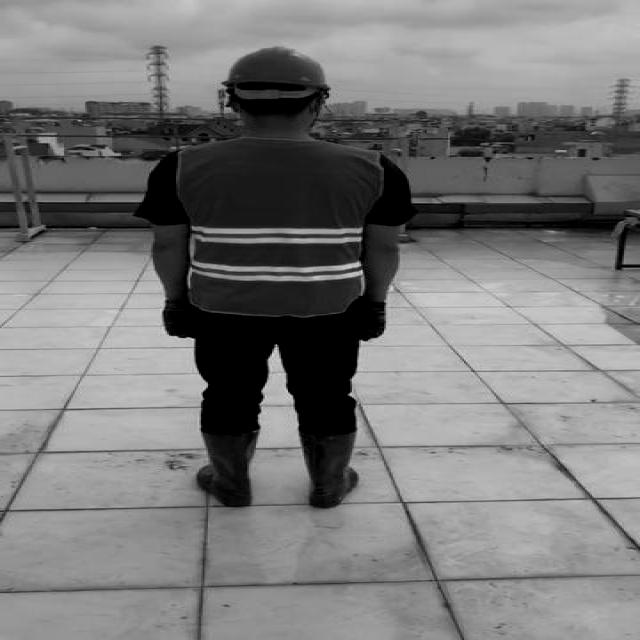boots: (194, 430, 261, 506), (299, 430, 361, 507)
hand_glove: (160, 301, 194, 339), (362, 301, 388, 340)
head_helmet: (219, 44, 329, 94)
person: (134, 42, 403, 520)
vest: (172, 140, 380, 316)
